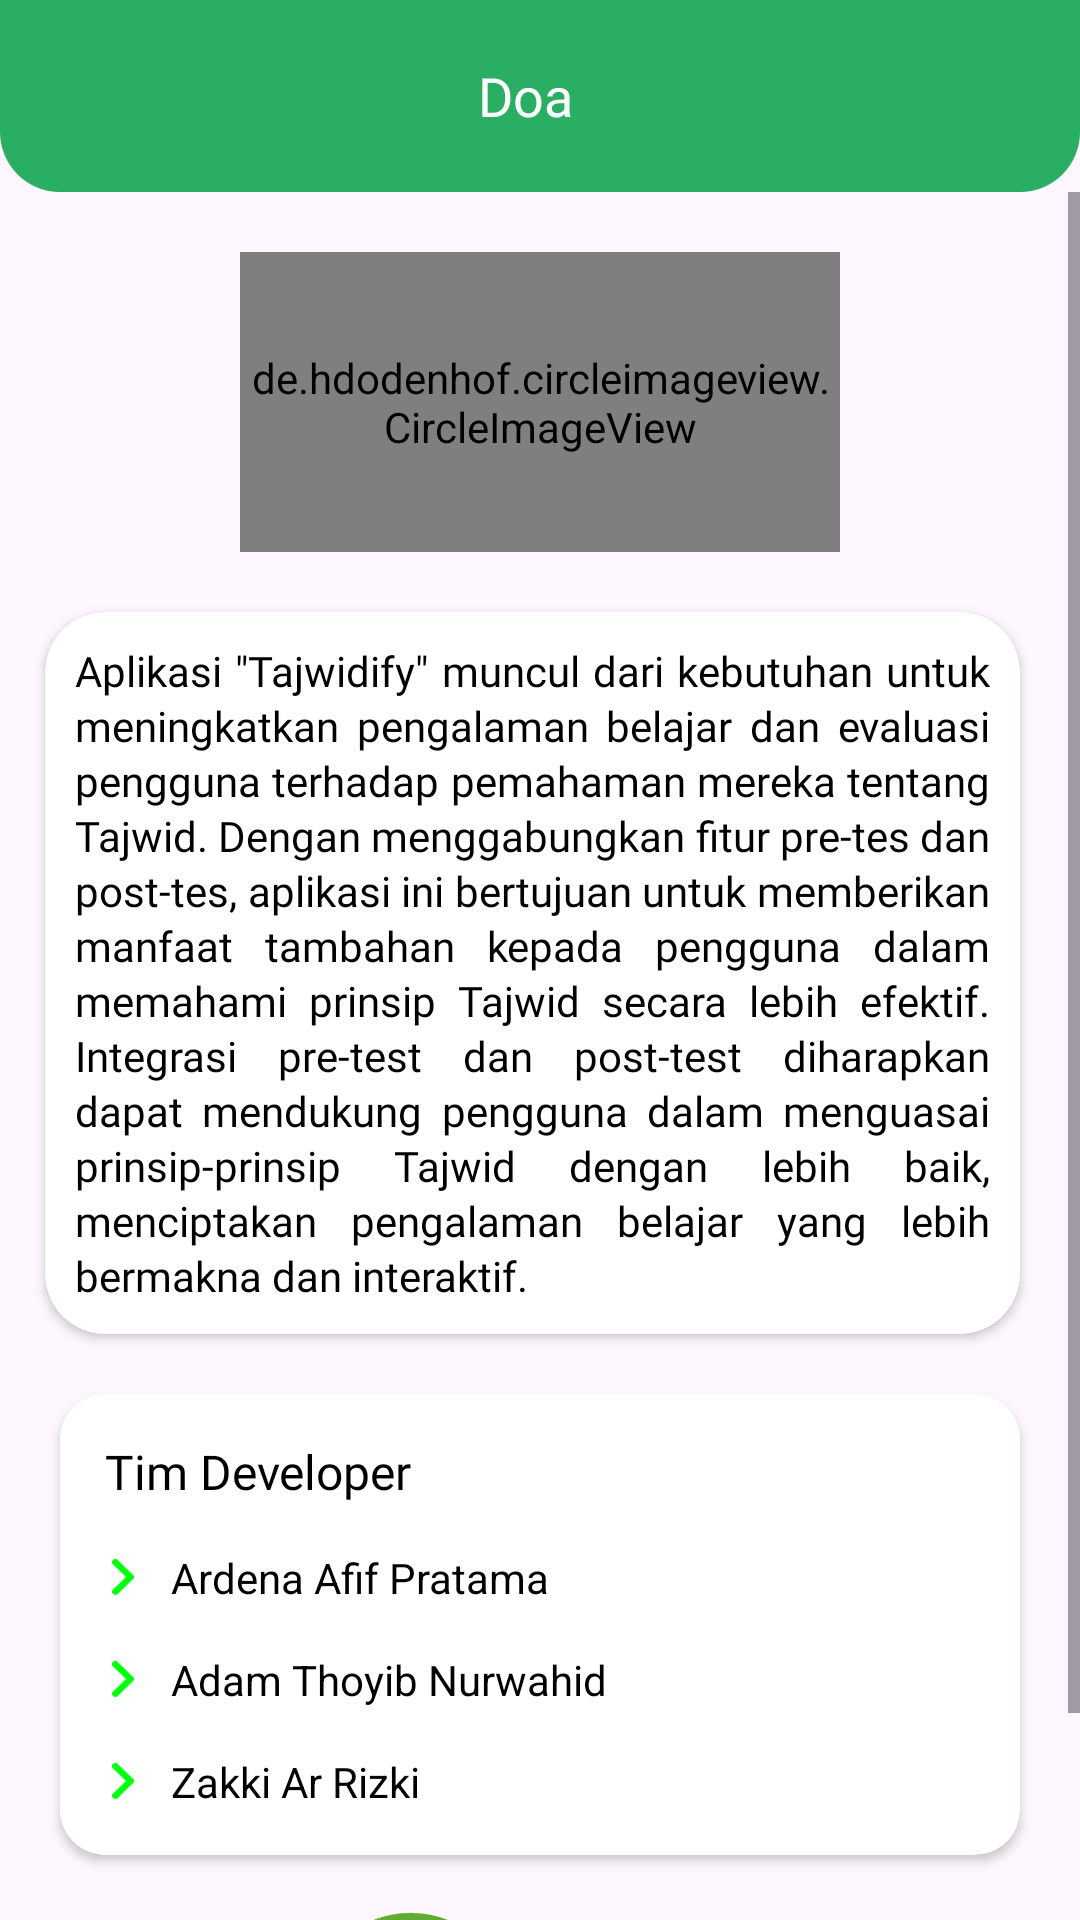

Where to tap for icons on this 1080px x 1920px app screen, as (x,y):
arrow next: (123,1577), (123,1679), (123,1781)
